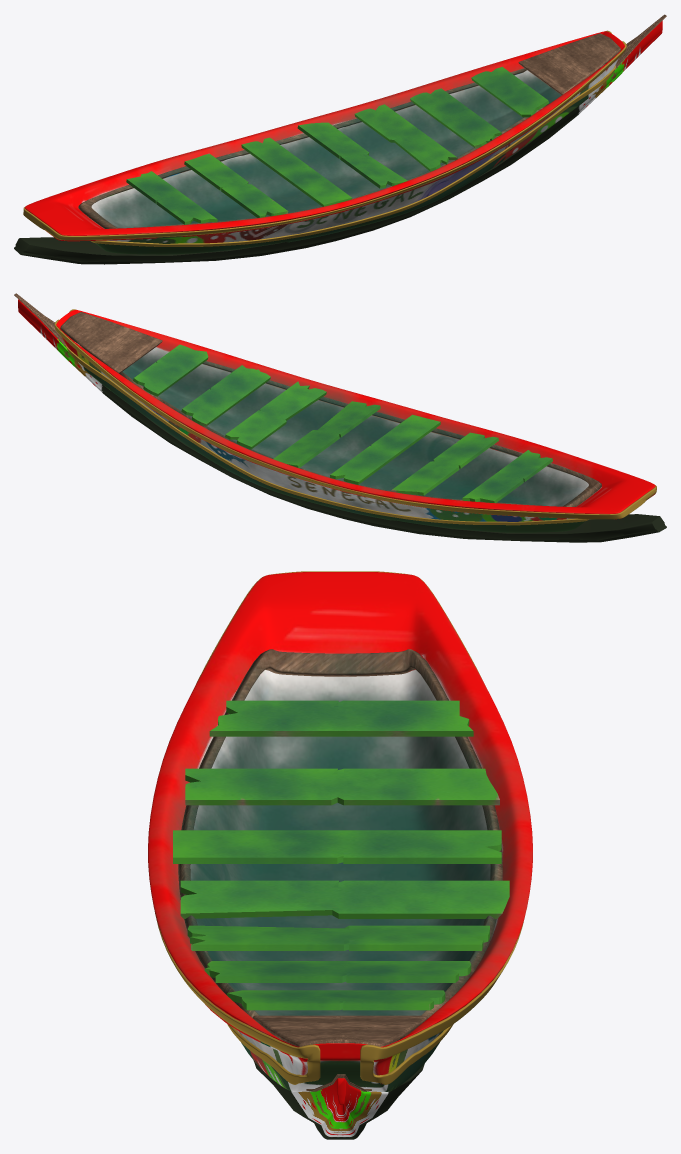
Rendered from traditional-boat.glb.
3 views of the same model, one above another, from view 1: azimuth 30°, elevation 25°; view 2: azimuth 150°, elevation 25°; view 3: azimuth 270°, elevation 25° (orthographic). The views are drawn at different scales.
Visible parts, largest first — view 1: pirogue, PLANCHE, Cube, Plane, Plane.001, SUPPORT PLANCHE, Cube.001; view 2: pirogue, PLANCHE, Cube, Plane, Plane.001, SUPPORT PLANCHE, Cube.001; view 3: pirogue, PLANCHE, SUPPORT PLANCHE, Plane, Cube, Plane.001.
Boxes of the visible parts, x1,y1,x2,y2 form: pirogue: (24,31,624,254); PLANCHE: (126,66,548,224); Cube: (14,21,662,264); Plane: (23,30,626,246); Plane.001: (518,33,620,95); SUPPORT PLANCHE: (78,68,548,228); Cube.001: (614,14,666,70); pirogue: (56,309,655,532); PLANCHE: (133,344,552,503); Cube: (18,299,666,542); Plane: (54,309,656,525); Plane.001: (60,312,162,373); SUPPORT PLANCHE: (119,361,601,506); Cube.001: (14,293,65,346); pirogue: (148,572,532,1091); PLANCHE: (173,700,509,1010); SUPPORT PLANCHE: (178,649,502,1017); Plane: (154,571,523,1084); Cube: (253,1060,424,1139); Plane.001: (253,1015,427,1046).
Bounding box in the file's own units: 13.44 × 2.75 × 3.46.
Materials: 6 (6 with a texture image).
